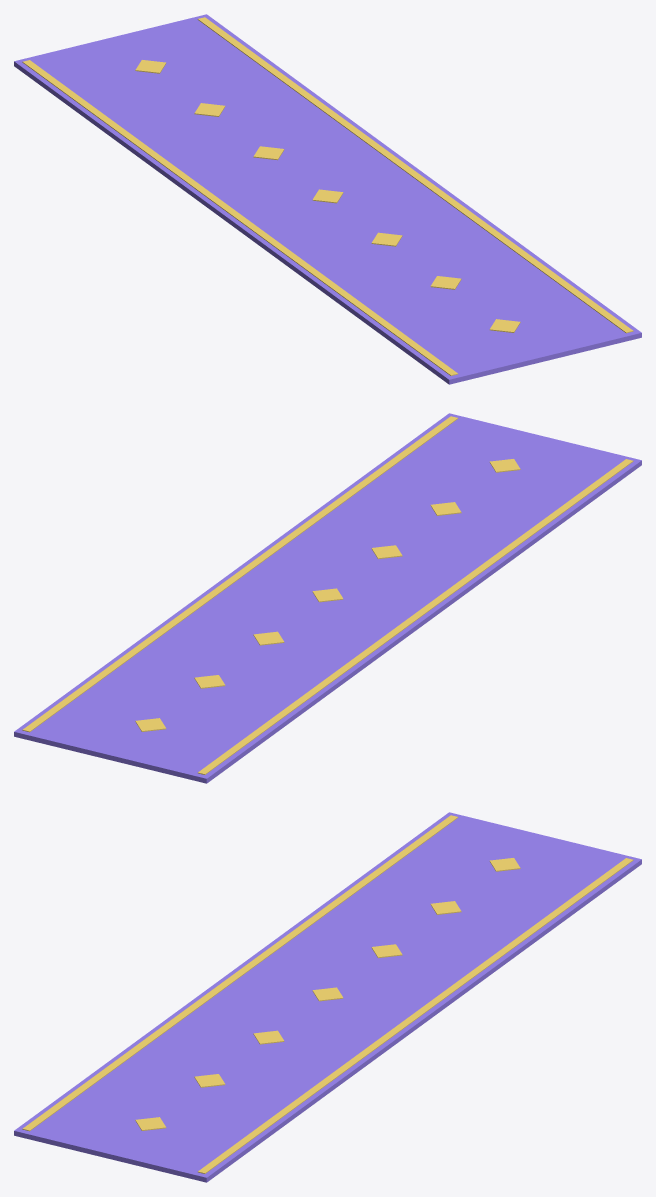
The picture shows the model from 3 angles, top to bottom: view 1: azimuth 30°, elevation 25°; view 2: azimuth 150°, elevation 25°; view 3: azimuth 330°, elevation 25°; orthographic projection.
Visible parts, largest first — view 1: Aisle runner, Woven gold border, Woven gold border.001; view 2: Aisle runner, Woven gold border, Woven gold border.001; view 3: Aisle runner, Woven gold border, Woven gold border.001.
Boxes of the visible parts, x1=… form: Aisle runner: x1=14, y1=14, x2=641, y2=384; Woven gold border: x1=22, y1=60, x2=457, y2=375; Woven gold border.001: x1=197, y1=17, x2=633, y2=333; Aisle runner: x1=14, y1=413, x2=641, y2=783; Woven gold border: x1=198, y1=459, x2=633, y2=774; Woven gold border.001: x1=22, y1=416, x2=458, y2=732; Aisle runner: x1=14, y1=812, x2=641, y2=1182; Woven gold border: x1=22, y1=815, x2=458, y2=1131; Woven gold border.001: x1=198, y1=858, x2=633, y2=1173.
Size of the model in its own units: 0.66 by 0.0195 by 2.58.
Materials: 1 (1 with a texture image).
